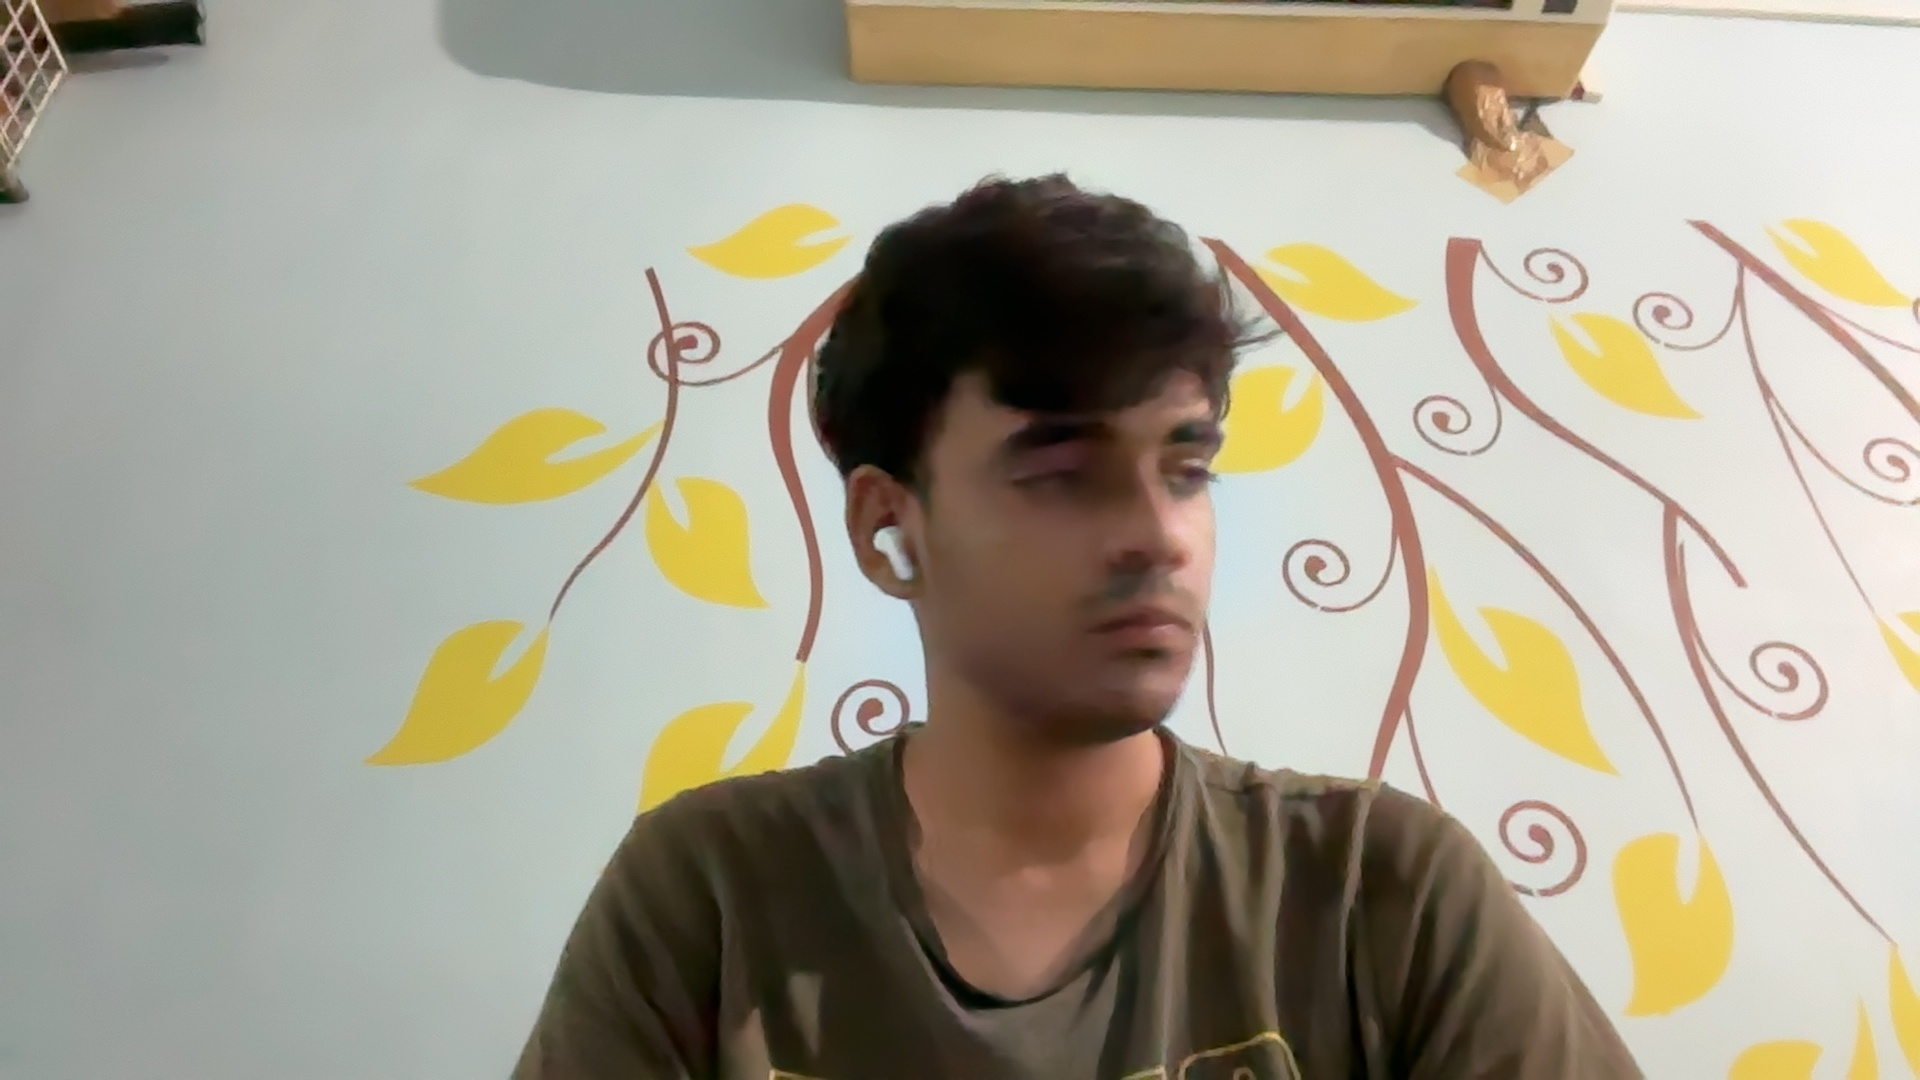No Mask: (932, 522, 1220, 739)
